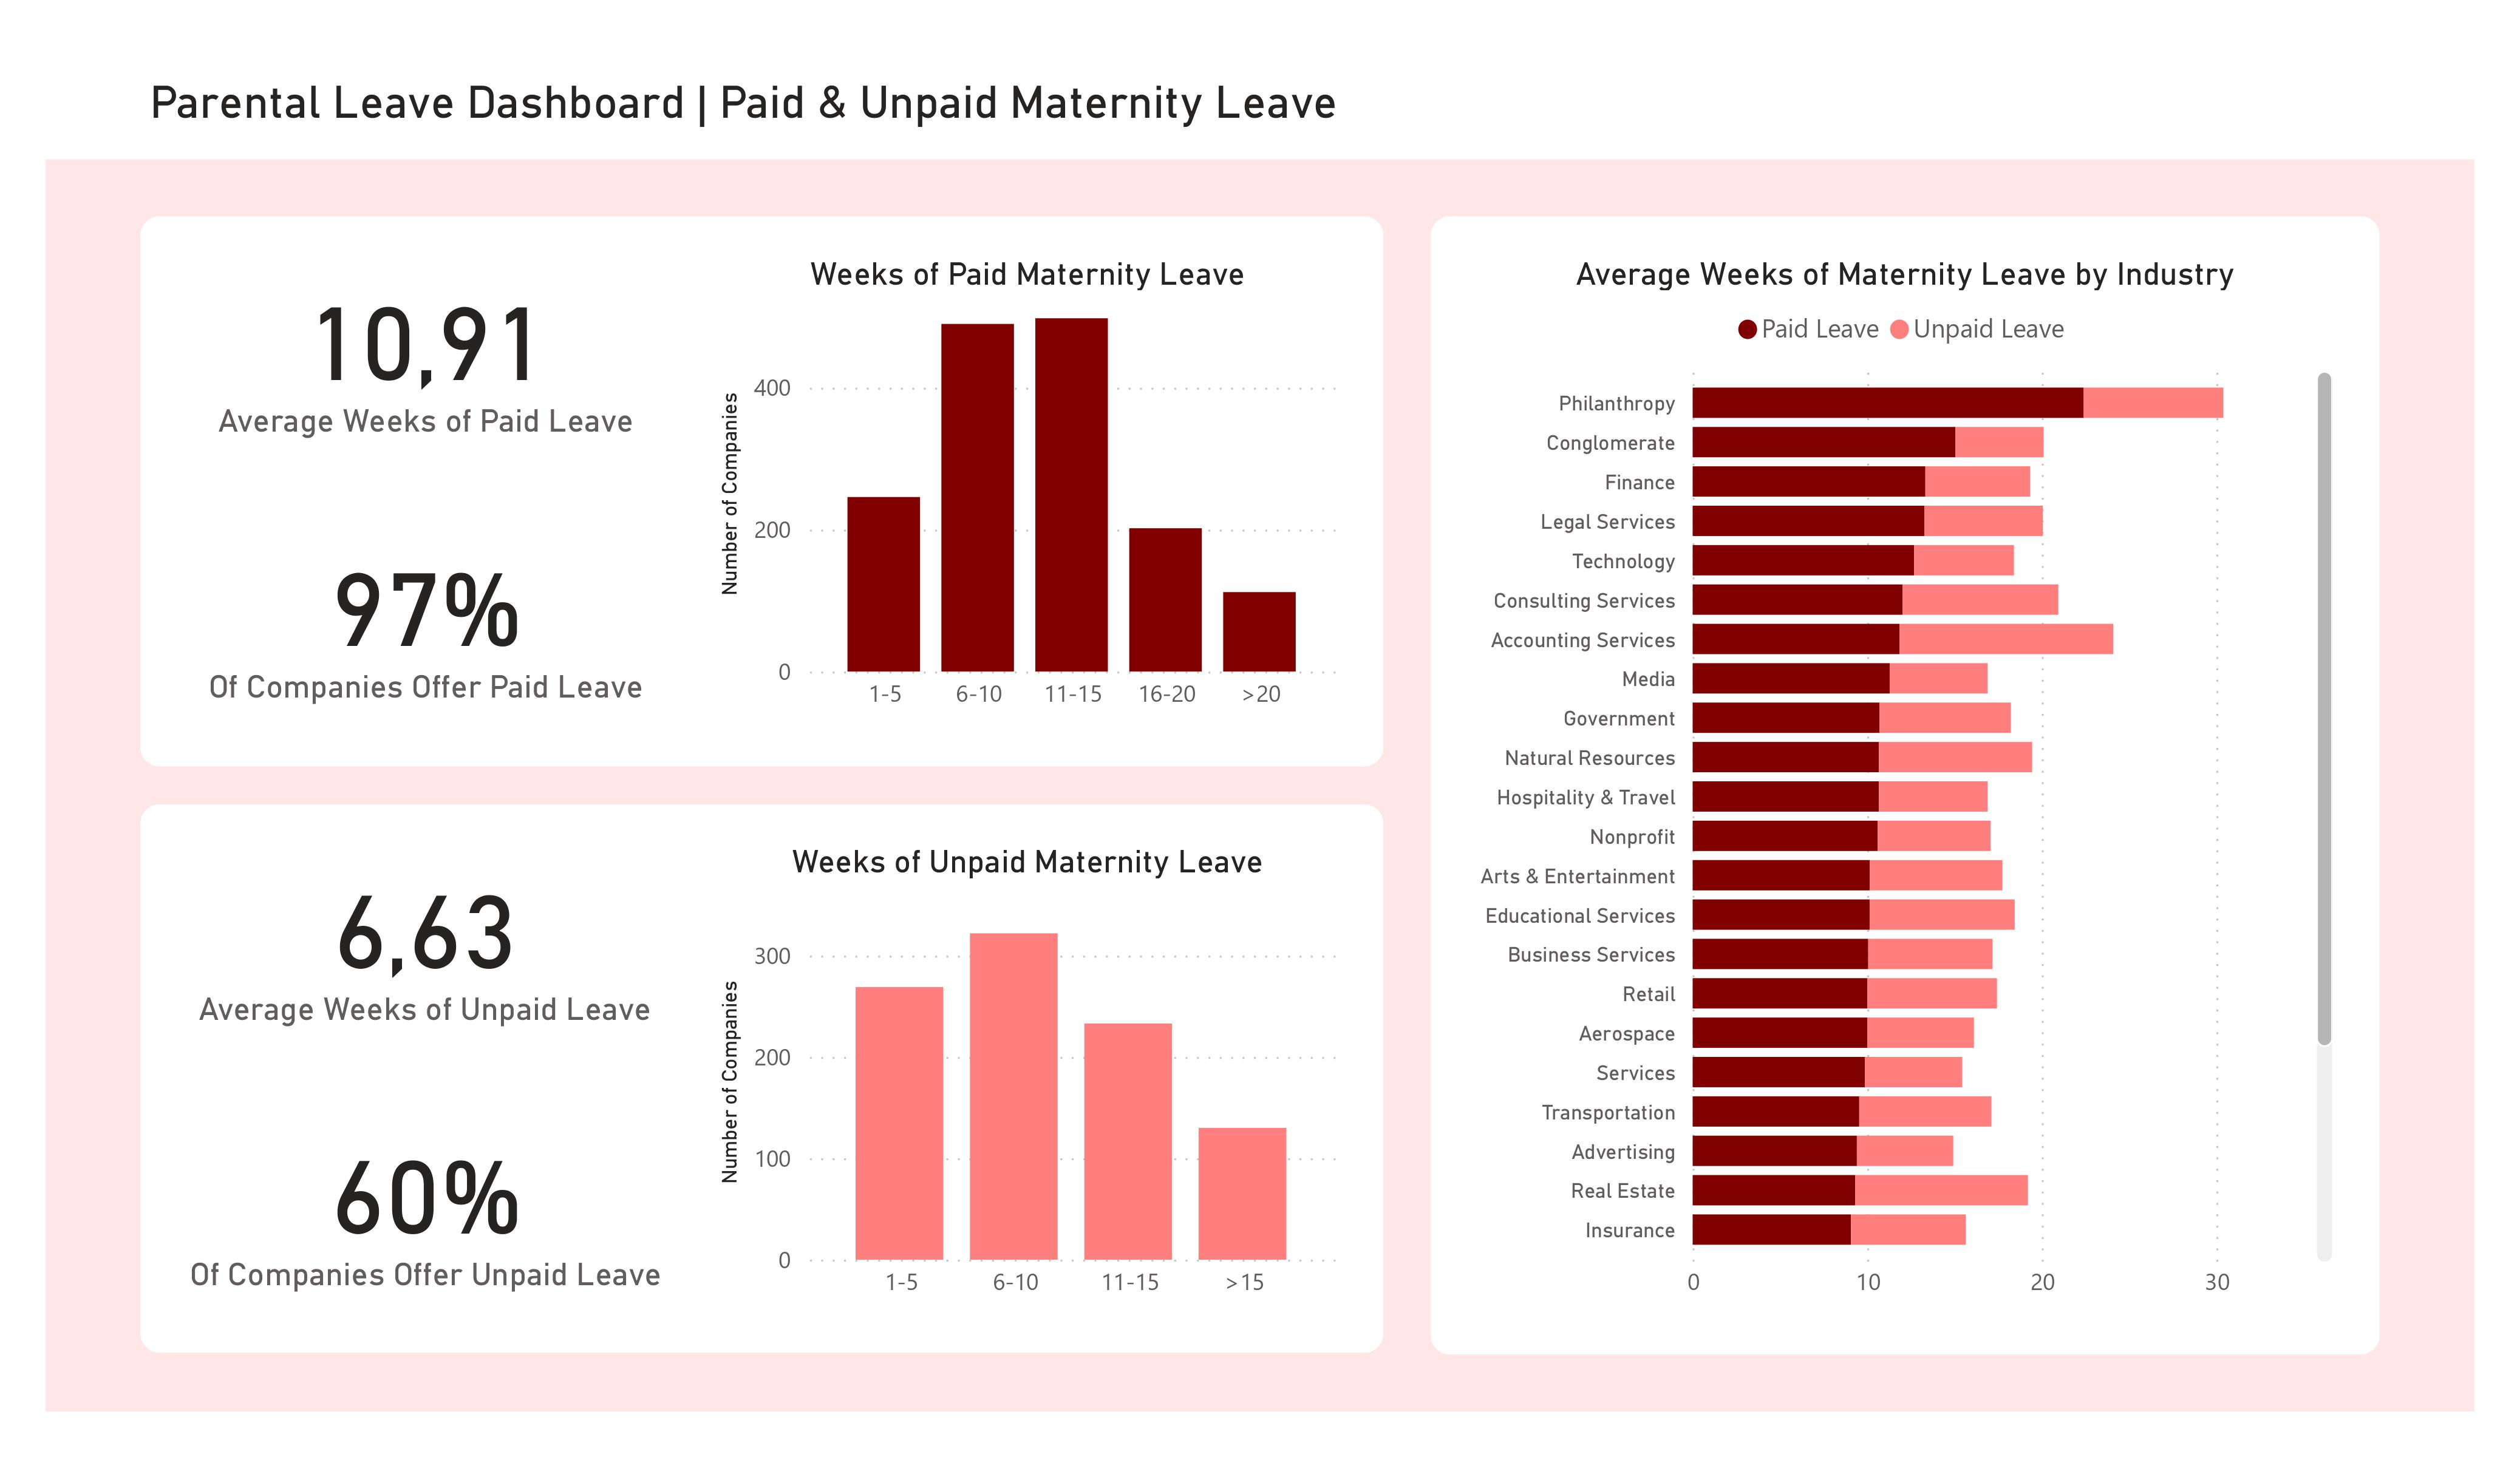

This screenshot's page, from the dashboard's own definition file:
{"tool":"powerbi","page":{"name":"Mother's","canvas":[1280,720],"ordinal":0},"visuals":[{"type":"shape","box":[0,0,1280,60.1],"z":0},{"type":"shape","box":[50,400,655,289.3],"z":1000},{"type":"shape","box":[50,90,655,290],"z":2000},{"type":"shape","box":[730,90,500,600],"z":3000},{"type":"barChart","title":"Average Weeks of Maternity Leave by Industry","fields":{"Category":["ParentalLeave.Industry"],"Y":["Avg(ParentalLeave.Paid Maternity Leave)","Avg(ParentalLeave.Unpaid Maternity Leave)"]},"box":[750,110,460,560],"z":4000},{"type":"card","fields":{"Values":["Avg(ParentalLeave.Paid Maternity Leave)"]},"box":[70.1,90,260.4,140.2],"z":5000},{"type":"card","fields":{"Values":["Avg(ParentalLeave.Unpaid Maternity Leave)"]},"box":[70,400,260.4,140],"z":6000},{"type":"card","title":"% Companies Offering Paid Leave","fields":{"Values":["ParentalLeave.%CompaniesPaidMaternityLeave"]},"box":[70.1,230,260.4,140.2],"z":7000},{"type":"card","title":"% Companies Offering Unpaid Leave","fields":{"Values":["ParentalLeave.%CompaniesUnpaidMaternityLeave"]},"box":[70.1,540,260.4,140.2],"z":8000},{"type":"columnChart","title":"Weeks of Unpaid Maternity Leave","fields":{"Y":["CountNonNull(ParentalLeave.Company)"],"Category":["ParentalLeave.UnpaidMaternityGroup"]},"box":[350,420,335,250],"z":9000},{"type":"clusteredColumnChart","title":"Weeks of Paid Maternity Leave","fields":{"Y":["CountNonNull(ParentalLeave.Company)"],"Category":["ParentalLeave.PaidMaternityGroup"]},"box":[350,110,335,250],"z":10000},{"type":"textbox","box":[50.1,11.1,655.5,49],"z":11000}]}

Visuals, with their boxes on the page's 1280x720 design canvas (x1, y1, x2, y2). These are canvas units, not pixel positions in the 2520x1457 screenshot, which may show the page scaled, cropped or inside an application window:
shape: 0:0:1280:60
shape: 50:400:705:689
shape: 50:90:705:380
shape: 730:90:1230:690
"Average Weeks of Maternity Leave by Industry" barChart: 750:110:1210:670
card - Avg(ParentalLeave.Paid Maternity Leave): 70:90:330:230
card - Avg(ParentalLeave.Unpaid Maternity Leave): 70:400:330:540
"% Companies Offering Paid Leave" card: 70:230:330:370
"% Companies Offering Unpaid Leave" card: 70:540:330:680
"Weeks of Unpaid Maternity Leave" columnChart: 350:420:685:670
"Weeks of Paid Maternity Leave" clusteredColumnChart: 350:110:685:360
textbox: 50:11:706:60
